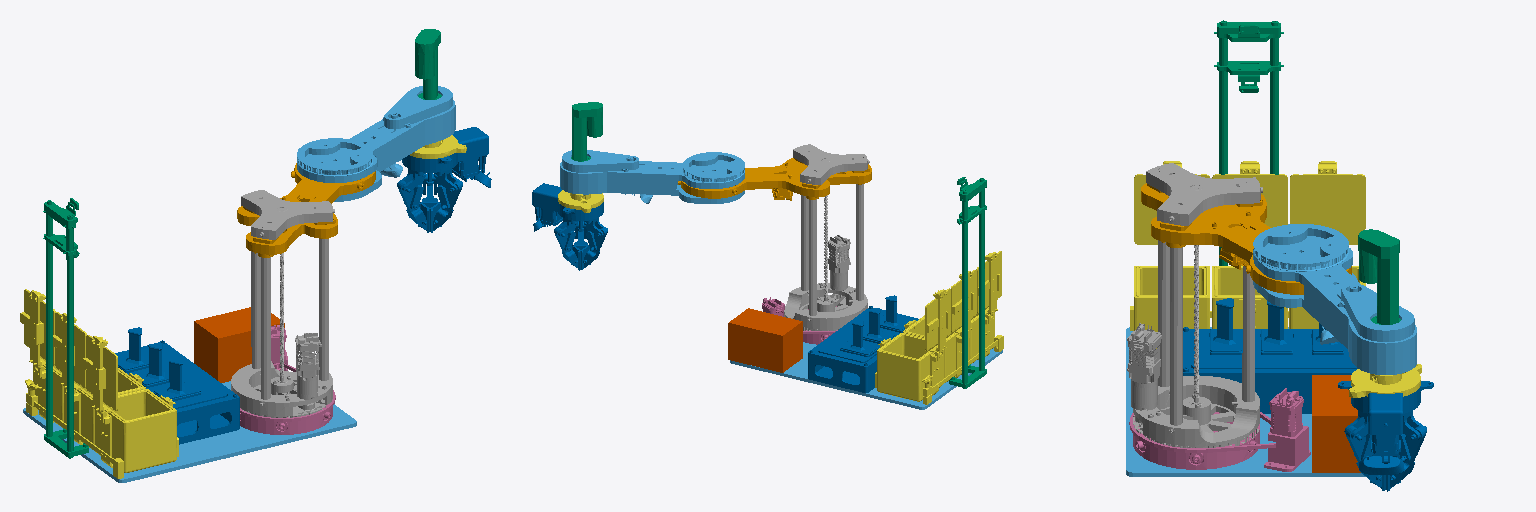
robot.urdf — sysmap:
<?xml version="1.0" encoding="UTF-8" ?>
<!-- V2 : casque hyperion enlevé -->
<robot name="sysmap">
    <link name="world" />
    <link name="platine">
        <visual>
            <origin rpy="1.57 0.0 0.0" />
            <geometry>
                <mesh filename="package://klampt/meshes/1_Platine_optimized.stl" />
            </geometry>
        </visual>
        <collision>
            <origin rpy="1.57 0.0 0.0" />
            <geometry>
                <mesh filename="package://klampt/meshes/1_Platine_convexHull.stl" />
            </geometry>
        </collision>
        <inertial>
            <mass value="0.1" />
            <origin xyz="0 0 0" rpy="0 0 0" />
            <inertia ixx="0.03" iyy="0.03" izz="0.03" ixy="0.0" ixz="0.0" iyz="0.0" />
        </inertial>
    </link>
    <link name="aileron">
        <visual>
            <origin rpy="1.57 0.0 0.0" />
            <geometry>
                <mesh filename="package://klampt/meshes/2_SupportAileron_optimized.stl" />
            </geometry>
        </visual>
        <collision>
            <origin rpy="1.57 0.0 0.0" />
            <geometry>
                <mesh filename="package://klampt/meshes/2_SupportAileron_convexHull.stl" />
            </geometry>
        </collision>
        <inertial>
            <mass value="0.1" />
            <origin xyz="0 0 0" rpy="0 0 0" />
            <inertia ixx="0.03" iyy="0.03" izz="0.03" ixy="0.0" ixz="0.0" iyz="0.0" />
        </inertial>
    </link>
    <link name="stockage">
        <visual>
            <origin rpy="1.57 0.0 0.0" />
            <geometry>
                <mesh filename="package://klampt/meshes/3_ZoneStockageV6_optimized.stl" />
            </geometry>
        </visual>
        <collision>
            <origin rpy="1.57 0.0 0.0" />
            <geometry>
                <mesh filename="package://klampt/meshes/3_ZoneStockageV6_convexHull.stl" />
            </geometry>
        </collision>
        <inertial>
            <mass value="0.1" />
            <origin xyz="0 0 0" rpy="0 0 0" />
            <inertia ixx="0.03" iyy="0.03" izz="0.03" ixy="0.0" ixz="0.0" iyz="0.0" />
        </inertial>
    </link>
    <link name="electrique">
        <visual>
            <origin rpy="1.57 0.0 0.0" />
            <geometry>
                <mesh filename="package://klampt/meshes/5_ZoneElec_optimized.stl" />
            </geometry>
        </visual>
        <collision>
            <origin rpy="1.57 0.0 0.0" />
            <geometry>
                <mesh filename="package://klampt/meshes/5_ZoneElec_convexHull.stl" />
            </geometry>
        </collision>
        <inertial>
            <mass value="0.1" />
            <origin xyz="0 0 0" rpy="0 0 0" />
            <inertia ixx="0.03" iyy="0.03" izz="0.03" ixy="0.0" ixz="0.0" iyz="0.0" />
        </inertial>
    </link>
    <link name="batterie">
        <visual>
            <origin rpy="1.57 0.0 0.0" />
            <geometry>
                <mesh filename="package://klampt/meshes/6_ZoneBatterie.stl" />
            </geometry>
        </visual>
        <collision>
            <origin rpy="1.57 0.0 0.0" />
            <geometry>
                <mesh filename="package://klampt/meshes/6_ZoneBatterie_convexHull.stl" />
            </geometry>
        </collision>
        <inertial>
            <mass value="0.1" />
            <origin xyz="0 0 0" rpy="0 0 0" />
            <inertia ixx="0.03" iyy="0.03" izz="0.03" ixy="0.0" ixz="0.0" iyz="0.0" />
        </inertial>
    </link>
    <link name="base">
        <visual>
            <origin rpy="1.57 0.0 0.0" />
            <geometry>
                <mesh filename="package://klampt/meshes/7_1_scara_base_optimized.stl" />
            </geometry>
        </visual>
        <collision>
            <origin rpy="1.57 0.0 0.0" />
            <geometry>
                <mesh filename="package://klampt/meshes/7_1_scara_base_convexHull.stl" />
            </geometry>
        </collision>
        <inertial>
            <mass value="0.1" />
            <origin xyz="0 0 0" rpy="0 0 0" />
            <inertia ixx="0.03" iyy="0.03" izz="0.03" ixy="0.0" ixz="0.0" iyz="0.0" />
        </inertial>
    </link>
    <link name="colonne">
        <visual>
            <origin rpy="1.57 0.0 0.0" />
            <geometry>
                <mesh filename="package://klampt/meshes/7_2_scara_colonne_optimized.stl" />
            </geometry>
        </visual>
        <collision>
            <origin rpy="1.57 0.0 0.0" />
            <geometry>
                <mesh filename="package://klampt/meshes/7_2_scara_colonne_convexHull.stl" />
            </geometry>
        </collision>
        <inertial>
            <mass value="0.1" />
            <origin xyz="0 0 0" rpy="0 0 0" />
            <inertia ixx="0.03" iyy="0.03" izz="0.03" ixy="0.0" ixz="0.0" iyz="0.0" />
        </inertial>
    </link>
    <link name="interne">
        <visual>
            <origin rpy="1.57 0.0 0.0" />
            <geometry>
                <mesh filename="package://klampt/meshes/7_3_scara_interne_V2_optimized.stl" />
            </geometry>
        </visual>
        <collision>
            <origin rpy="1.57 0.0 0.0" />
            <geometry>
                <mesh filename="package://klampt/meshes/7_3_scara_interne_V2_convexHull.stl" />
            </geometry>
        </collision>
        <inertial>
            <mass value="0.1" />
            <origin xyz="0 0 0" rpy="0 0 0" />
            <inertia ixx="0.03" iyy="0.03" izz="0.03" ixy="0.0" ixz="0.0" iyz="0.0" />
        </inertial>
    </link>
    <link name="externe">
        <visual>
            <origin rpy="1.57 0.0 0.0" />
            <geometry>
                <mesh filename="package://klampt/meshes/7_4_scara_externe_optimized.stl" />
            </geometry>
        </visual>
        <collision>
            <origin rpy="1.57 0.0 0.0" />
            <geometry>
                <mesh filename="package://klampt/meshes/7_4_scara_externe_convexHull.stl" />
            </geometry>
        </collision>
        <inertial>
            <mass value="0.1" />
            <origin xyz="0 0 0" rpy="0 0 0" />
            <inertia ixx="0.03" iyy="0.03" izz="0.03" ixy="0.0" ixz="0.0" iyz="0.0" />
        </inertial>
    </link>
    <link name="poigner">
        <visual>
            <origin rpy="1.57 0.0 0.0" />
            <geometry>
                <mesh filename="package://klampt/meshes/7_5_scara_poigner_optimized.stl" />
            </geometry>
        </visual>
        <collision>
            <origin rpy="1.57 0.0 0.0" />
            <geometry>
                <mesh filename="package://klampt/meshes/7_5_scara_poigner_convexHull.stl" />
            </geometry>
        </collision>
        <inertial>
            <mass value="0.1" />
            <origin xyz="0 0 0" rpy="0 0 0" />
            <inertia ixx="0.03" iyy="0.03" izz="0.03" ixy="0.0" ixz="0.0" iyz="0.0" />
        </inertial>
    </link>
    <link name="verin">
        <visual>
            <origin rpy="1.57 0.0 0.0" />
            <geometry>
                <mesh filename="package://klampt/meshes/7_6_scara_verin_optimized.stl" />
            </geometry>
        </visual>
        <collision>
            <origin rpy="1.57 0.0 0.0" />
            <geometry>
                <mesh filename="package://klampt/meshes/7_6_scara_verin_convexHull.stl" />
            </geometry>
        </collision>
        <inertial>
            <mass value="0.1" />
            <origin xyz="0 0 0" rpy="0 0 0" />
            <inertia ixx="0.03" iyy="0.03" izz="0.03" ixy="0.0" ixz="0.0" iyz="0.0" />
        </inertial>
    </link>
    <link name="pince">
        <visual>
            <origin rpy="1.57 0.0 0.0" />
            <geometry>
                <mesh filename="package://klampt/meshes/7_7_scara_pince_ferme_optimized.stl" />
            </geometry>
        </visual>
        <collision>
            <origin rpy="1.57 0.0 0.0" />
            <geometry>
                <mesh filename="package://klampt/meshes/7_7_scara_pince_ferme_convexHull.stl" />
            </geometry>
        </collision>
        <inertial>
            <mass value="0.1" />
            <origin xyz="0 0 0" rpy="0 0 0" />
            <inertia ixx="0.03" iyy="0.03" izz="0.03" ixy="0.0" ixz="0.0" iyz="0.0" />
        </inertial>
    </link>
    <joint name="world_platine" type="fixed">
        <origin xyz="0.0 0.0 0.0" rpy="0.0 0.0 0.0" />
        <parent link="world" />
        <child link="platine" />
    </joint>
    <joint name="platine_aileron" type="fixed">
        <origin xyz="-0.42 0.042 0.0" rpy="0.0 0.0 0.0" />
        <parent link="platine" />
        <child link="aileron" />
    </joint>
    <joint name="platine_stockage" type="fixed">
        <origin xyz="-0.2789 -0.06397 0.0" rpy="0.0 0.0 0.0" />
        <parent link="platine" />
        <child link="stockage" />
    </joint>
    <joint name="platine_electrique" type="fixed">
        <origin xyz="-0.1179 -0.004 0.0" rpy="0.0 0.0 0.0" />
        <parent link="platine" />
        <child link="electrique" />
    </joint>
    <joint name="platine_batterie" type="fixed">
        <origin xyz="0.110 0.276 0.0" rpy="0.0 0.0 0.0" />
        <parent link="platine" />
        <child link="batterie" />
    </joint>
    <joint name="platine_base" type="fixed">
        <origin xyz="0.0 0.0 0.0" rpy="0.0 0.0 0.0" />
        <parent link="platine" />
        <child link="base" />
    </joint>
    <joint name="base_colonne" type="revolute">
        <origin xyz="0.0 0.0 0.03" rpy="0.0 0.0 0.0" />
        <parent link="base" />
        <child link="colonne" />
        <axis xyz="0.0 0.0 1.0" />
        <limit lower="-6" upper="6" effort="0.0" velocity="0.0" />
    </joint>
    <joint name="colonne_interne" type="prismatic">
        <origin xyz="0.0 0.0 0.391" rpy="0.0 0.0 0.0" />
        <parent link="colonne" />
        <child link="interne" />
        <axis xyz="0.0 0.0 1.0" />
        <limit lower="-0.309" upper="0" effort="0.0" velocity="0.0" />
    </joint>
    <joint name="interne_externe" type="revolute">
        <origin xyz="0.214559 0.163904 -0.005" rpy="0.0 0.0 0.0" />
        <parent link="interne" />
        <child link="externe" />
        <axis xyz="0.0 0.0 1.0" />
        <limit lower="-2.1" upper="2.56" effort="0.0" velocity="0.0" />
    </joint>
    <joint name="externe_poigner" type="revolute">
        <origin xyz="0.29117 0.13275 0.030" rpy="0.0 0.0 0.0" />
        <parent link="externe" />
        <child link="poigner" />
        <axis xyz="0.0 0.0 1.0" />
        <limit lower="-3" upper="3" effort="0.0" velocity="0.0" />
    </joint>
    <joint name="poigner_verin" type="prismatic">
        <origin xyz="0.0 0.0 -0.083" rpy="0.0 0.0 0.0" />
        <parent link="poigner" />
        <child link="verin" />
        <axis xyz="0.0 0.0 1.0" />
        <limit lower="-0.15" upper="0.0" effort="0.0" velocity="0.0" />
    </joint>
    <joint name="verin_pince" type="fixed">
        <origin xyz="0.0 0.0 -0.025" rpy="-1.57 0.0 0.0" />
        <parent link="verin" />
        <child link="pince" />
    </joint>
    <transmission name="trans_base_colonne">
        <type>transmission_interface/SimpleTransmission</type>
        <joint name="base_colonne">
            <hardwareInterface>hardware_interface/EffortJointInterface</hardwareInterface>
        </joint>
        <actuator name="base_colonne_motor">
            <hardwareInterface>hardware_interface/EffortJointInterface</hardwareInterface>
            <mechanicalReduction>1</mechanicalReduction>
        </actuator>
    </transmission>
    <transmission name="trans_colonne_interne">
        <type>transmission_interface/SimpleTransmission</type>
        <joint name="colonne_interne">
            <hardwareInterface>hardware_interface/EffortJointInterface</hardwareInterface>
        </joint>
        <actuator name="colonne_interne_motor">
            <hardwareInterface>hardware_interface/EffortJointInterface</hardwareInterface>
            <mechanicalReduction>1</mechanicalReduction>
        </actuator>
    </transmission>
    <transmission name="trans_interne_externe">
        <type>transmission_interface/SimpleTransmission</type>
        <joint name="interne_externe">
            <hardwareInterface>hardware_interface/EffortJointInterface</hardwareInterface>
        </joint>
        <actuator name="interne_externe_motor">
            <hardwareInterface>hardware_interface/EffortJointInterface</hardwareInterface>
            <mechanicalReduction>1</mechanicalReduction>
        </actuator>
    </transmission>
    <transmission name="trans_externe_poigner">
        <type>transmission_interface/SimpleTransmission</type>
        <joint name="externe_poigner">
            <hardwareInterface>hardware_interface/EffortJointInterface</hardwareInterface>
        </joint>
        <actuator name="externe_poigner_motor">
            <hardwareInterface>hardware_interface/EffortJointInterface</hardwareInterface>
            <mechanicalReduction>1</mechanicalReduction>
        </actuator>
    </transmission>
    <transmission name="trans_poigner_verin">
        <type>transmission_interface/SimpleTransmission</type>
        <joint name="poigner_verin">
            <hardwareInterface>hardware_interface/EffortJointInterface</hardwareInterface>
        </joint>
        <actuator name="poigner_verin_motor">
            <hardwareInterface>hardware_interface/EffortJointInterface</hardwareInterface>
            <mechanicalReduction>1</mechanicalReduction>
        </actuator>
    </transmission>
    <gazebo>
        <plugin name="gazebo_ros_control">
            <robotNamespace>/</robotNamespace>
        </plugin>
    </gazebo>
</robot>

--- What the picture shows (computed from the rendered views, not written in the file) ---
The picture shows the robot from 3 angles, left to right: view 1: azimuth 30°, elevation 25°; view 2: azimuth 150°, elevation 25°; view 3: azimuth 270°, elevation 25°; orthographic projection.
Robot: sysmap — 13 links, 12 joints (3 revolute, 2 prismatic, 7 fixed); root link world; default pose: every joint at zero.
Links seen in each view (by area): view 1: stockage, colonne, externe, electrique, pince, aileron, platine, batterie, interne, base, poigner, verin; view 2: stockage, colonne, externe, electrique, batterie, pince, interne, aileron, platine, poigner, verin, base; view 3: colonne, stockage, externe, electrique, pince, base, interne, aileron, batterie, platine, poigner, verin.
Boxes of the visible links, x1,y1,x2,y2 form: stockage: [20, 289, 178, 478]; colonne: [231, 190, 334, 417]; externe: [297, 86, 455, 201]; electrique: [115, 327, 239, 444]; pince: [397, 127, 491, 232]; aileron: [43, 198, 88, 458]; platine: [23, 381, 356, 482]; batterie: [194, 307, 284, 382]; interne: [237, 163, 375, 257]; base: [240, 325, 335, 434]; poigner: [415, 29, 441, 99]; verin: [410, 135, 466, 158]; stockage: [875, 251, 1003, 404]; colonne: [784, 144, 869, 330]; externe: [560, 150, 744, 203]; electrique: [808, 295, 918, 392]; batterie: [728, 308, 802, 372]; pince: [532, 183, 607, 270]; interne: [678, 158, 871, 200]; aileron: [949, 177, 986, 388]; platine: [730, 342, 1002, 409]; poigner: [571, 102, 602, 161]; verin: [558, 190, 603, 212]; base: [762, 297, 837, 344]; colonne: [1127, 163, 1262, 447]; stockage: [1130, 161, 1365, 348]; externe: [1253, 224, 1416, 374]; electrique: [1183, 298, 1357, 413]; pince: [1338, 381, 1433, 491]; base: [1129, 388, 1310, 471]; interne: [1141, 183, 1351, 294]; aileron: [1214, 20, 1283, 265]; batterie: [1312, 375, 1360, 472]; platine: [1126, 327, 1365, 476]; poigner: [1358, 229, 1400, 324]; verin: [1349, 364, 1421, 397].
Bounding box of the posed robot: 1.1 × 0.4817 × 0.5952 m (x, y, z).
Meshes: 12 distinct files referenced, 12 mesh visuals loaded (12 binary STL).